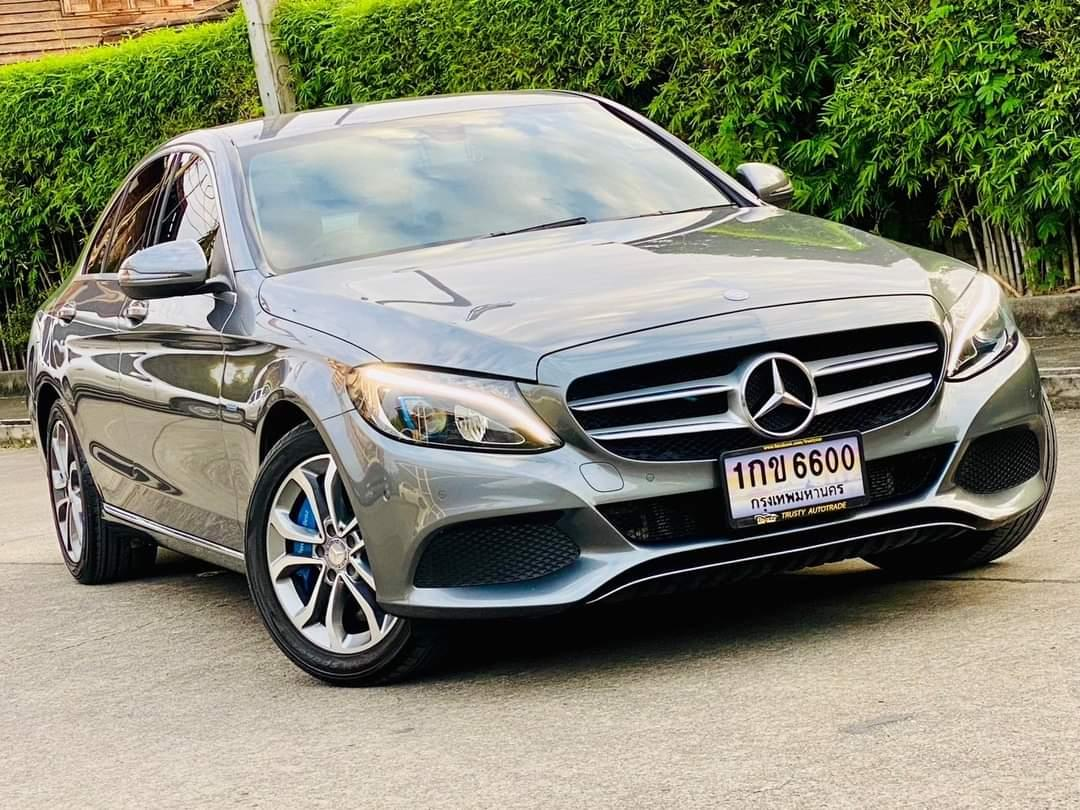license-plate: (712, 422, 870, 540)
